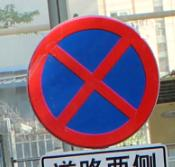No Parking: (28, 16, 161, 153)
